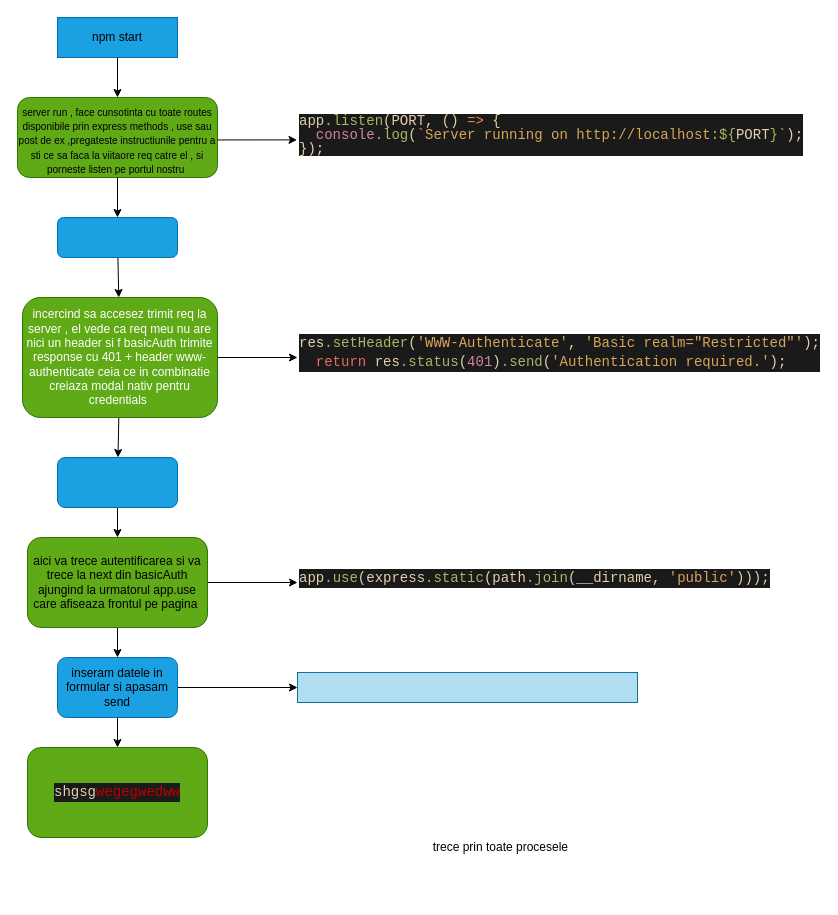
This 838x915 diagram has some shape labels left out. The centre of each missing label's shape, as x and y in pixels:
fetch('/copy-template', { method: 'POST', ... }): point 467,687
inseram datele si retrimitem alt req cu date pentru auth: point 117,482
localhost:PORT: point 117,237
